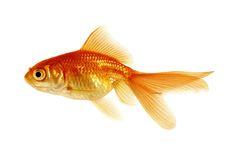goldfish: (20, 37, 205, 126)
